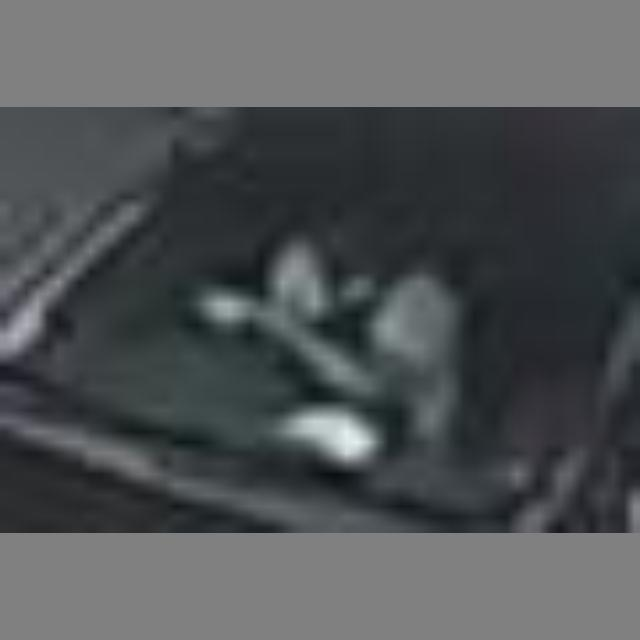tidak-pakai: (224, 214, 448, 427)
